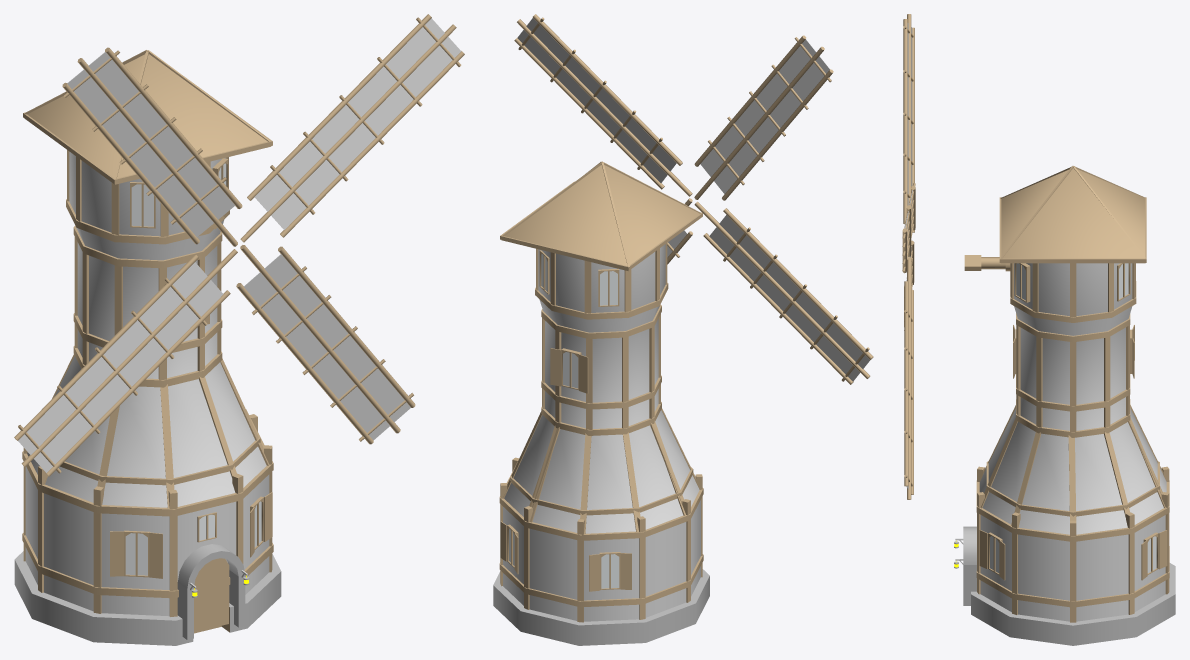
Rendered from windmill.fbx.
3 renders of one model, left to right at view 1: azimuth 30°, elevation 25°; view 2: azimuth 150°, elevation 25°; view 3: azimuth 270°, elevation 25°, orthographic. The views are drawn at different scales.
Visible parts, largest first — view 1: Null_1, Null_1.001; view 2: Null_1, Null_1.001; view 3: Null_1, Null_1.001.
Part boxes in pixels (left/top/right/bottom): Null_1: left=14, top=50, right=281, bottom=645; Null_1.001: left=14, top=14, right=464, bottom=476; Null_1: left=493, top=161, right=709, bottom=645; Null_1.001: left=514, top=14, right=873, bottom=384; Null_1: left=954, top=166, right=1175, bottom=645; Null_1.001: left=902, top=14, right=915, bottom=499.
Size of the model in its own units: 200 by 280 by 132.
